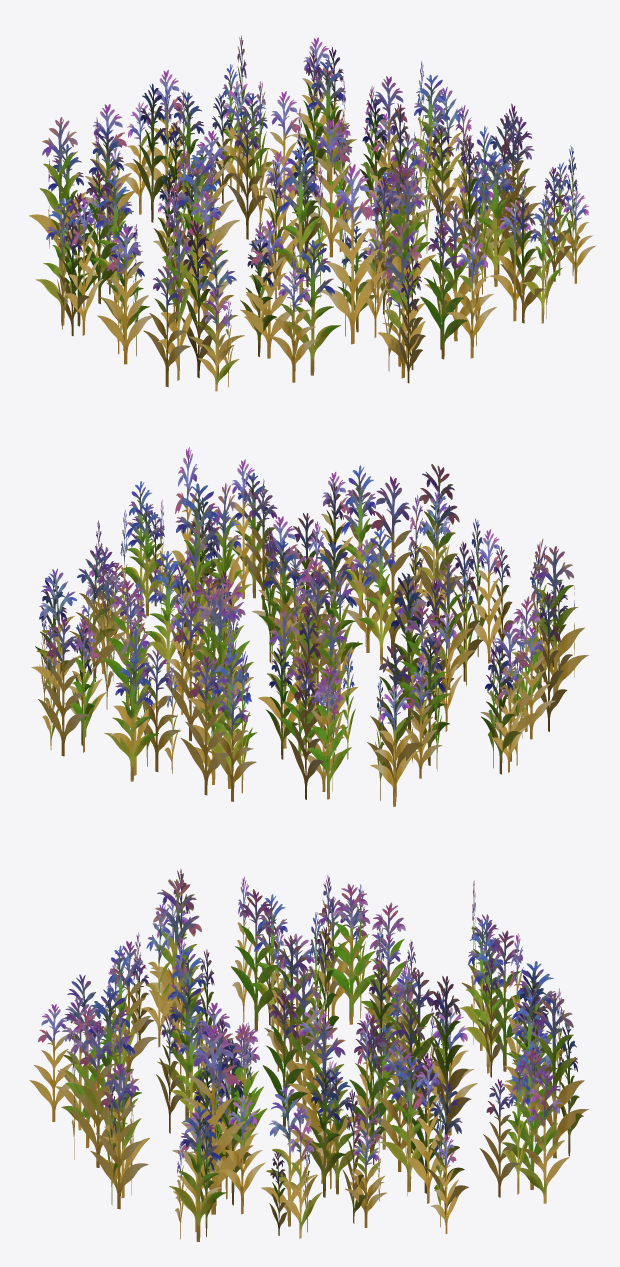
The model's file is SM_BlueLobelias.fbx.
The picture shows the model from 3 angles, top to bottom: view 1: azimuth 30°, elevation 25°; view 2: azimuth 150°, elevation 25°; view 3: azimuth 270°, elevation 25°; orthographic projection. The views are drawn at different scales.
Visible parts, largest first — view 1: Lobelias_LOD0; view 2: Lobelias_LOD0; view 3: Lobelias_LOD0.
Part boxes in pixels (x1,y1,x2,y2): Lobelias_LOD0: (29, 35, 595, 391); Lobelias_LOD0: (31, 447, 588, 806); Lobelias_LOD0: (29, 869, 588, 1241).
Size of what is drawn, in the model's own units: 1.26 by 0.4522 by 1.26.
